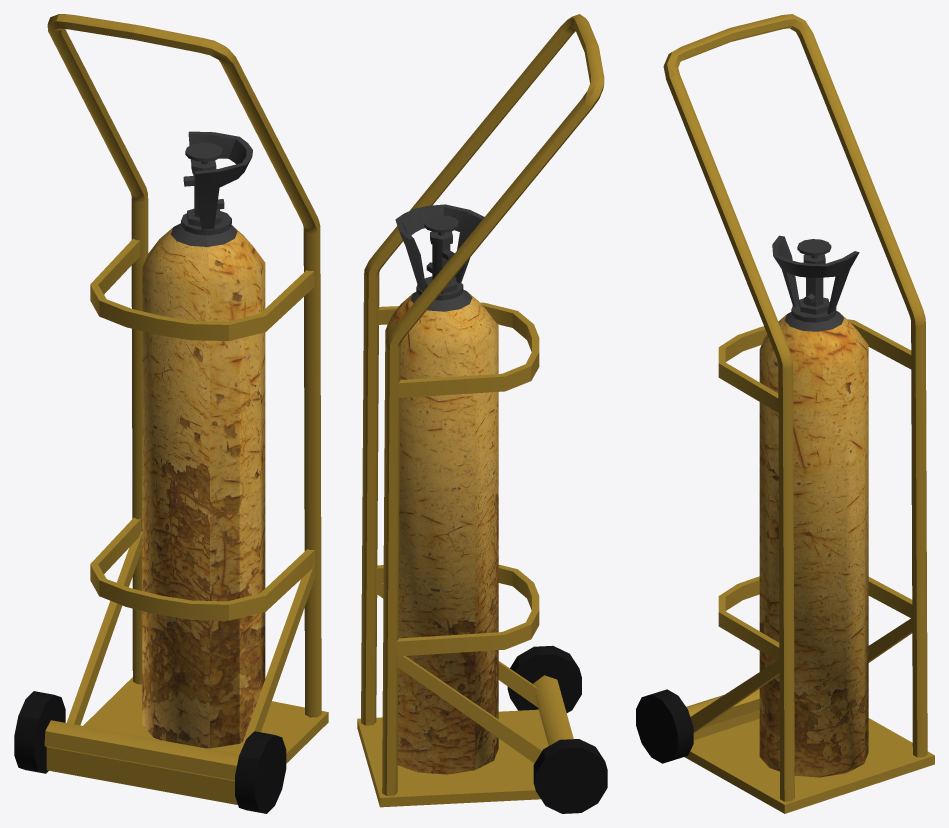
File: TELEJKA+BALOON.fbx
3 views of the same model, side by side, from view 1: azimuth 30°, elevation 25°; view 2: azimuth 150°, elevation 25°; view 3: azimuth 270°, elevation 25° (orthographic). The views are drawn at different scales.
Parts seen in each view (by area): view 1: TELEJKA+BALLON; view 2: TELEJKA+BALLON; view 3: TELEJKA+BALLON.
Part boxes in pixels (x1=…): TELEJKA+BALLON: x1=14, y1=14, x2=328, y2=813; TELEJKA+BALLON: x1=357, y1=14, x2=607, y2=813; TELEJKA+BALLON: x1=636, y1=14, x2=934, y2=813.
Size of the model in its own units: 183 by 464 by 182.
Materials: 4 (2 with a texture image).
